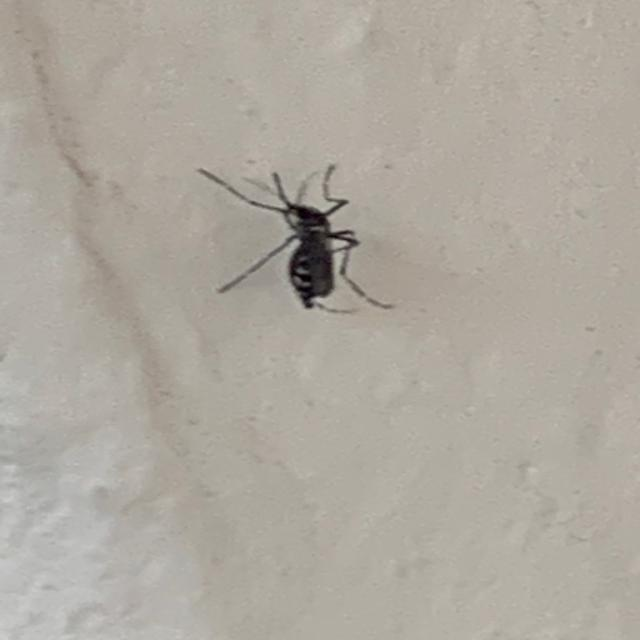albopictus: (192, 150, 402, 319)
